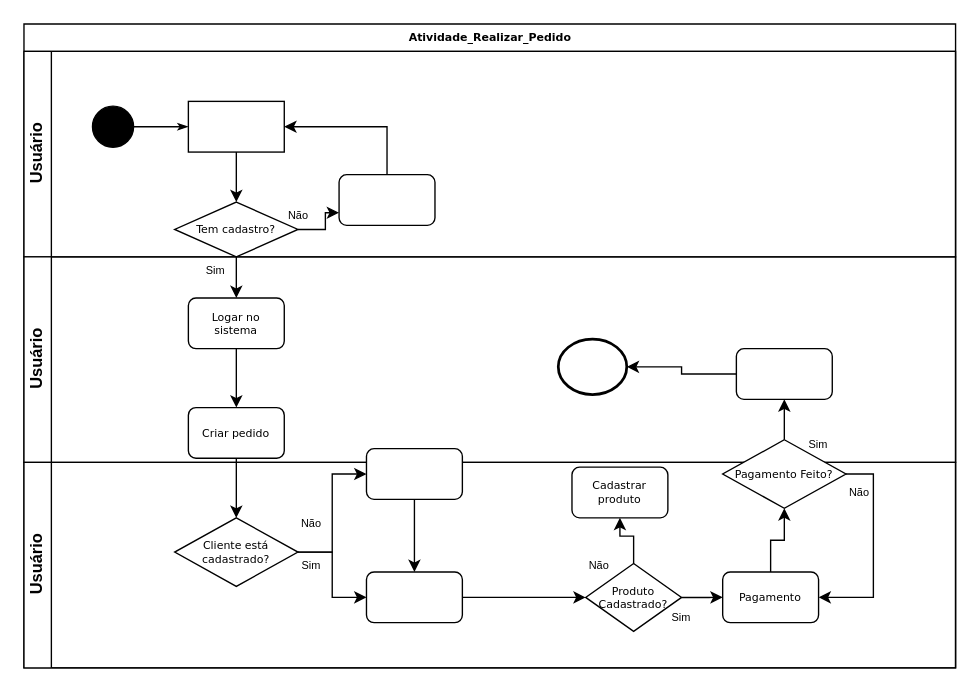
This 980x692 diagram has some shape labels left out. Each missing label, with the centre of its shape:
"Acessar o sistema" goes at [235,126].
"Cadastrar cliente" goes at [413,473].
"Finaliza pedido" goes at [591,366].
"Gera Receita" goes at [783,373].
"Realiza o Cadastro" goes at [386,199].
"Tela de Pedidos" goes at [413,597].
